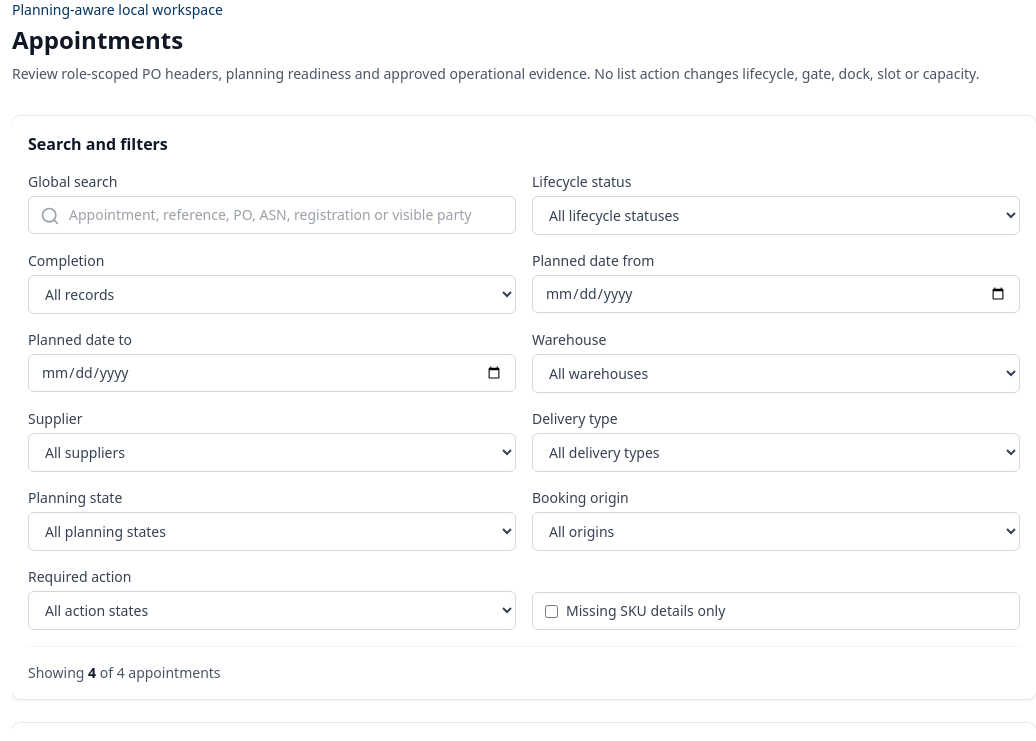
AppointmentsPage › searches approved visible fields and never matches hidden diagnostics
Replace the text in the search field labelled "Global search" with "ASN-DEMO-2001": (272, 215) [28,196,516,234]
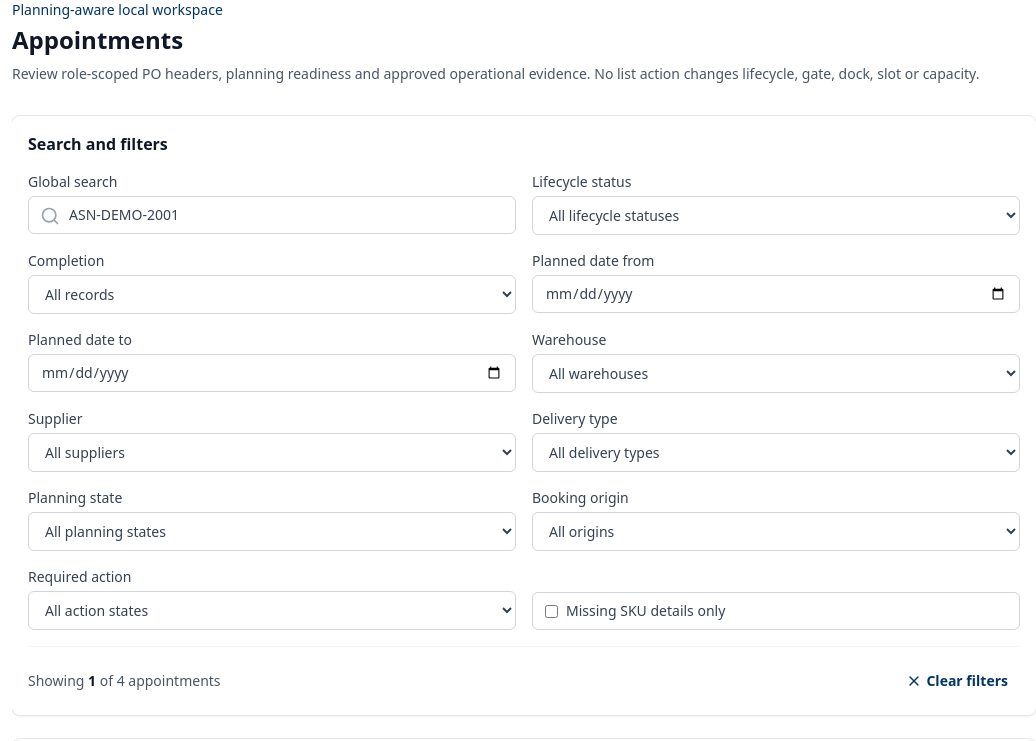
Replace the text in the search field labelled "Global search" with "EXACT_MATCH": (272, 215) [28,196,516,234]
(page scrolled)
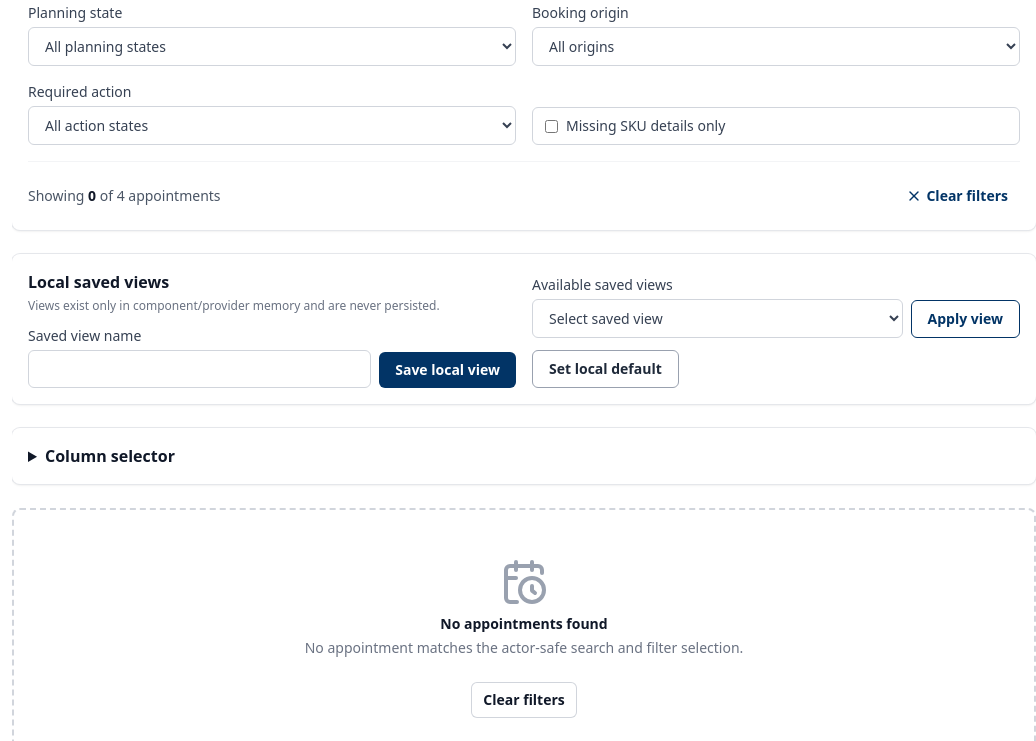
Result: the heading "No appointments found" is shown at [440,614,608,633]
